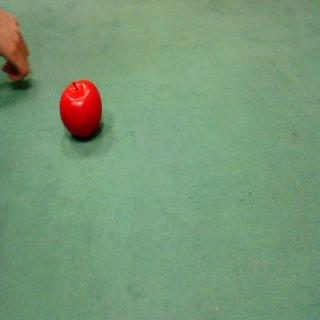apple: (56, 70, 115, 149)
